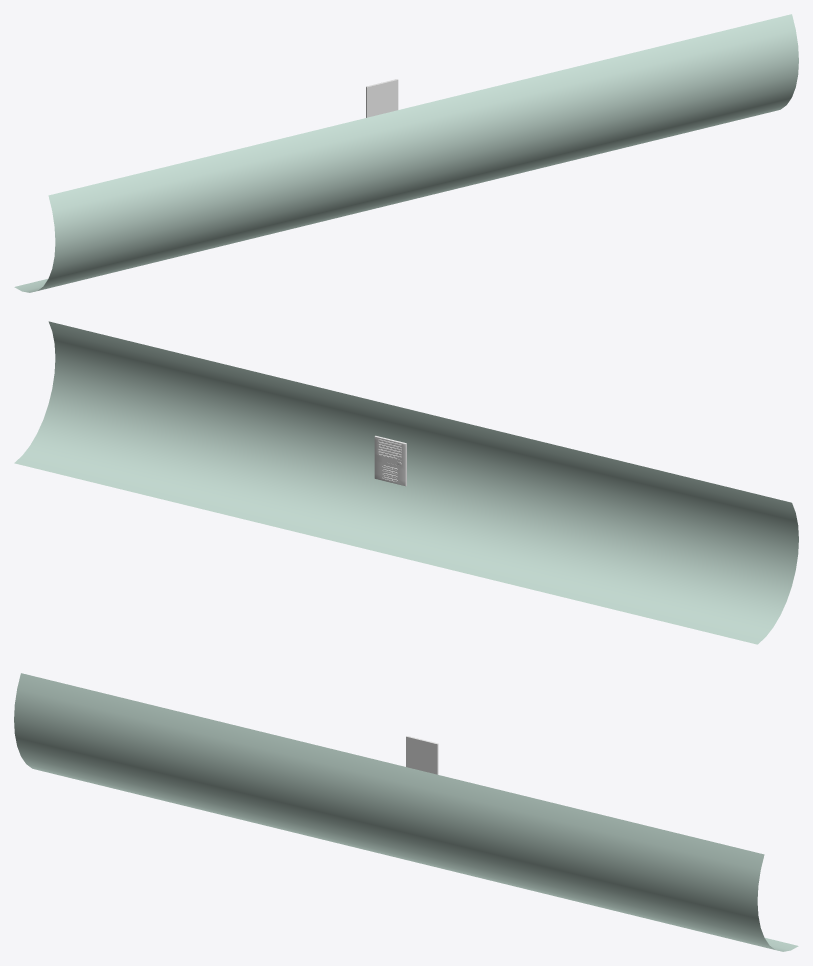
The model's file is intercom.fbx.
3 renders of one model, top to bottom at view 1: azimuth 30°, elevation 25°; view 2: azimuth 150°, elevation 25°; view 3: azimuth 330°, elevation 25°, orthographic.
Visible parts, largest first — view 1: Cylinder, intercom; view 2: Cylinder, intercom; view 3: Cylinder, intercom.
Boxes of the visible parts, box(x1,y1,x2,y2) form: Cylinder: box(14, 14, 798, 292); intercom: box(366, 79, 398, 117); Cylinder: box(14, 321, 798, 644); intercom: box(374, 435, 406, 486); Cylinder: box(14, 673, 798, 951); intercom: box(406, 736, 438, 774).
Bounding box in the file's own units: 3719 × 558 × 360.
